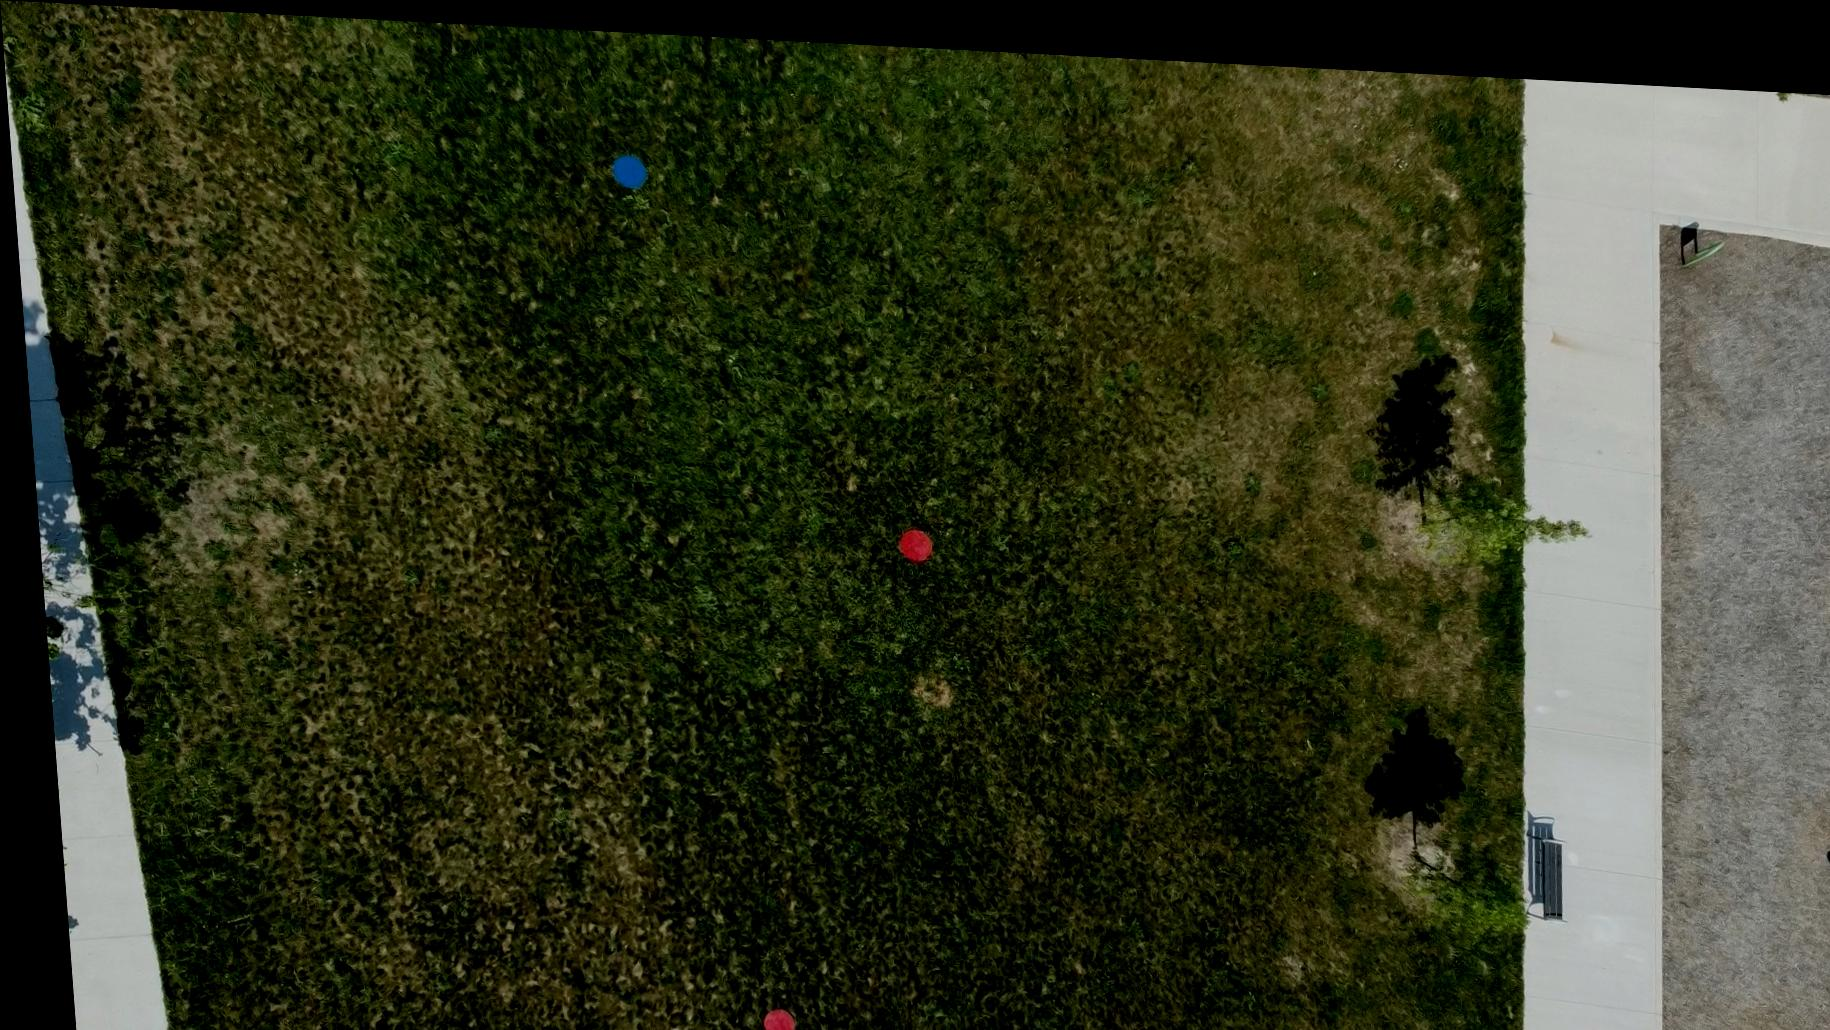Blue: (610, 147, 647, 184)
Red: (889, 518, 926, 555), (745, 999, 782, 1030)
